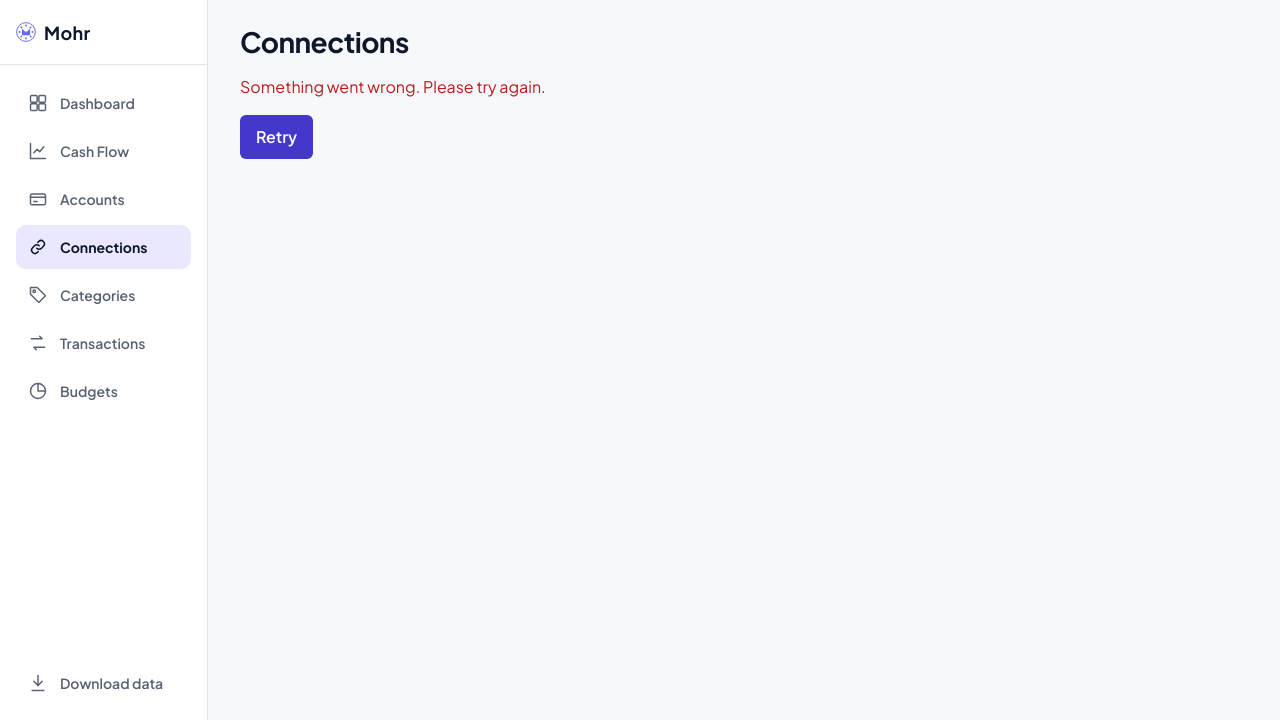
Test: connections error handling › retries a failed request and clears the stale error
Expected: the message shows "Something went wrong. Please try again.", [240,76,546,97]
Click the button "Retry" at (277, 137), box [240,115,313,159]
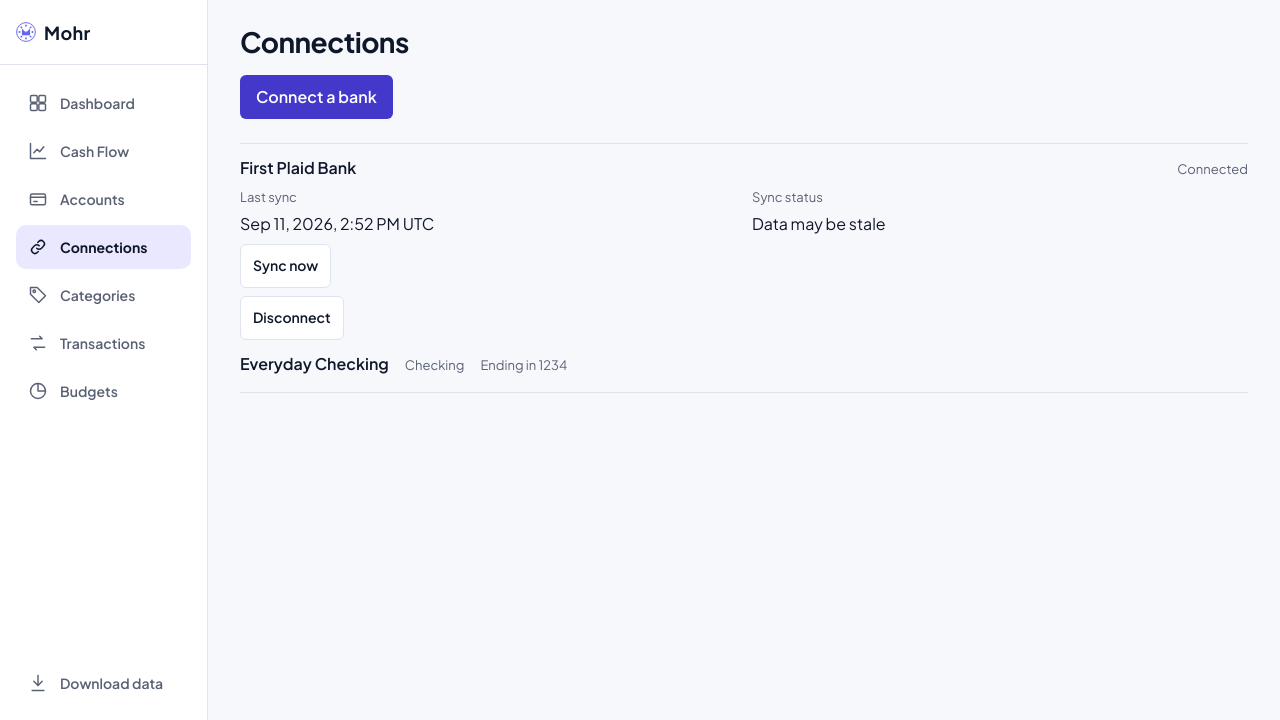
Expected: the heading "First Plaid Bank" is shown, [240,156,356,180]
Expected: the message "Something went wrong. Please try again. Retry" is gone
